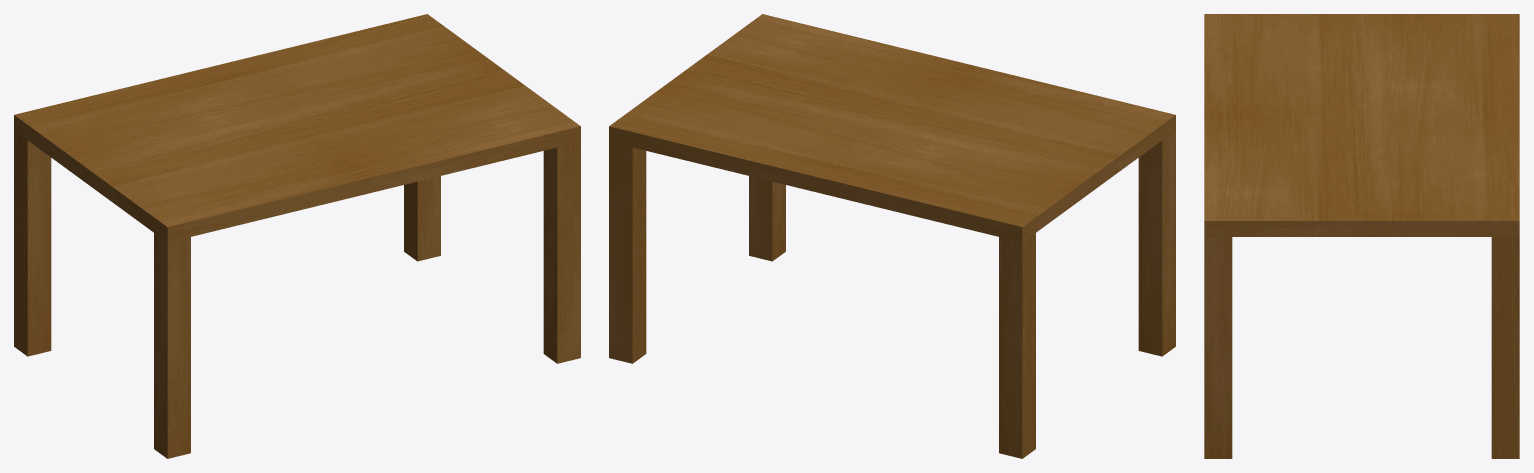
The model's file is table.obj.
3 renders of one model, left to right at view 1: azimuth 30°, elevation 25°; view 2: azimuth 150°, elevation 25°; view 3: azimuth 270°, elevation 25°, orthographic. The views are drawn at different scales.
Visible parts, largest first — view 1: fusta_taula_tipical.j_fusta_taula_tipical.j_fusta_taula_tipical.; view 2: fusta_taula_tipical.j_fusta_taula_tipical.j_fusta_taula_tipical.; view 3: fusta_taula_tipical.j_fusta_taula_tipical.j_fusta_taula_tipical..
Part boxes in pixels (bbox=[...]): fusta_taula_tipical.j_fusta_taula_tipical.j_fusta_taula_tipical.: bbox=[14, 14, 580, 458]; fusta_taula_tipical.j_fusta_taula_tipical.j_fusta_taula_tipical.: bbox=[609, 14, 1175, 458]; fusta_taula_tipical.j_fusta_taula_tipical.j_fusta_taula_tipical.: bbox=[1204, 14, 1519, 458].
Size of the model in its own units: 140 by 75 by 90.
1 material, 1 textured.
